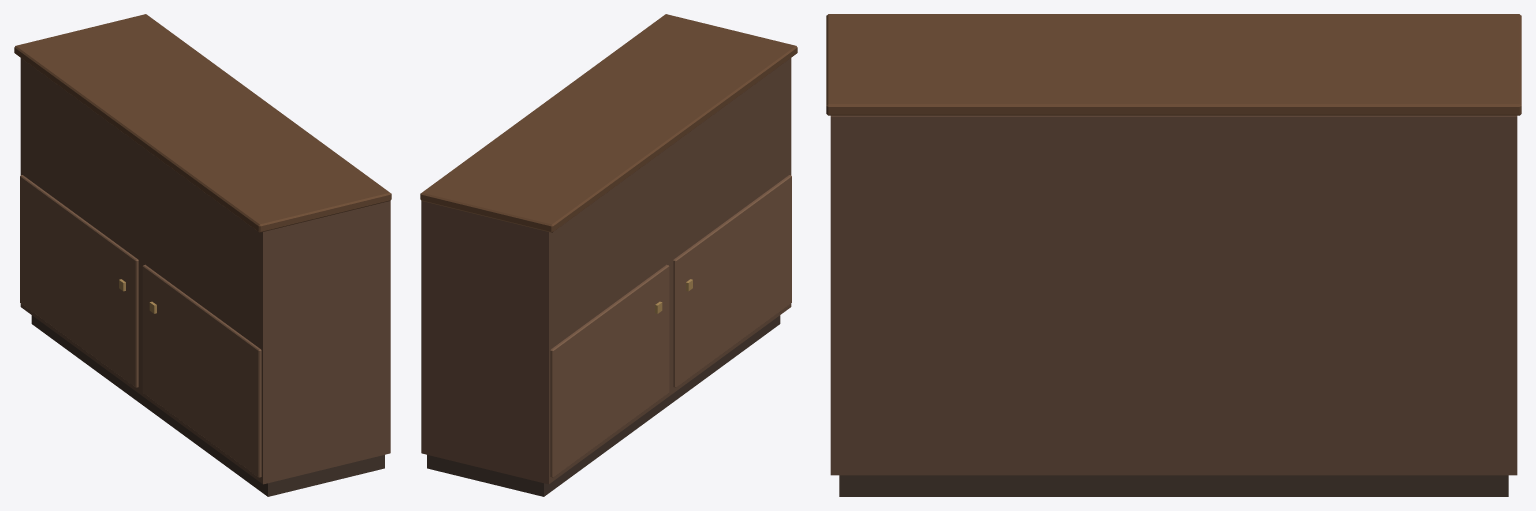
The model's file is class_cabinet.glb.
The picture shows the model from 3 angles, left to right: view 1: azimuth 30°, elevation 25°; view 2: azimuth 150°, elevation 25°; view 3: azimuth 270°, elevation 25°; orthographic projection. The views are drawn at different scales.
Visible parts, largest first — view 1: class_cabinet; view 2: class_cabinet; view 3: class_cabinet.
Part boxes in pixels (x1=…): class_cabinet: x1=14, y1=14, x2=391, y2=496; class_cabinet: x1=420, y1=14, x2=797, y2=496; class_cabinet: x1=826, y1=14, x2=1521, y2=496.
Bounding box in the file's own units: 0.5 × 1 × 1.6.
